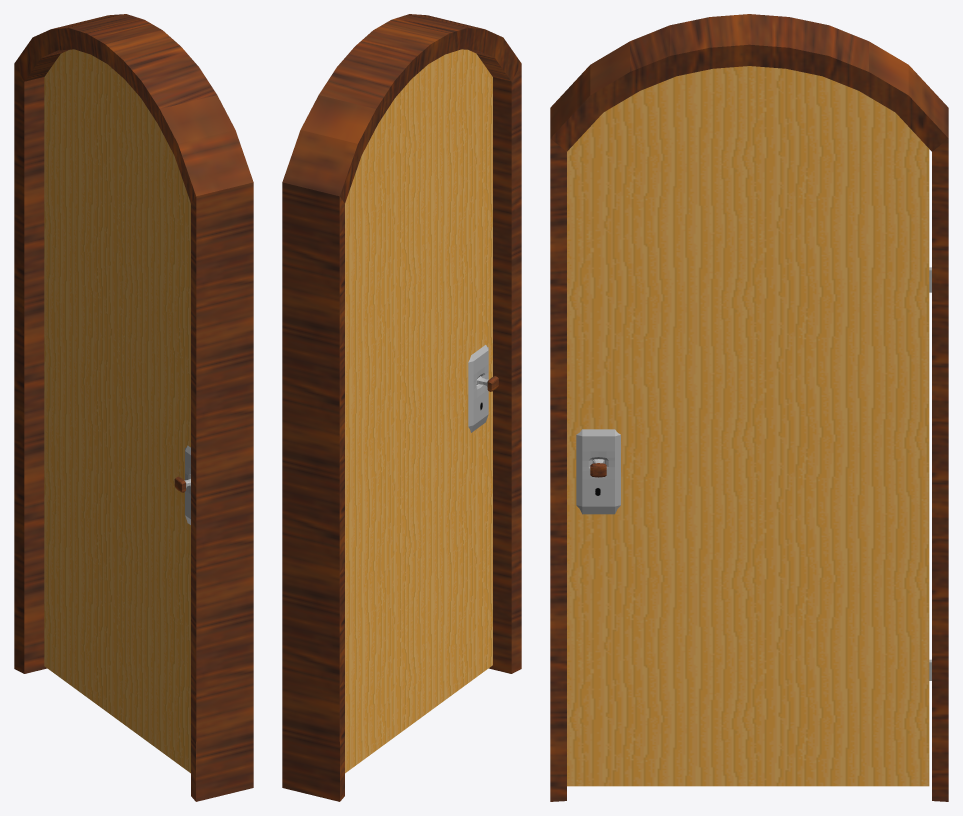
The model's file is Porta_Casa.fbx.
3 views of the same model, side by side, from view 1: azimuth 30°, elevation 25°; view 2: azimuth 150°, elevation 25°; view 3: azimuth 270°, elevation 25° (orthographic). The views are drawn at different scales.
Parts seen in each view (by area): view 1: Porta, Batente; view 2: Porta, Batente; view 3: Porta, Batente.
Part boxes in pixels (x1,y1,x2,y2): Porta: (44, 49, 190, 773); Batente: (14, 14, 253, 801); Porta: (345, 49, 498, 773); Batente: (282, 14, 521, 801); Porta: (567, 66, 931, 786); Batente: (550, 14, 948, 801).
Size of the model in its own units: 23.05 by 264 by 126.
1 material, 1 textured.
